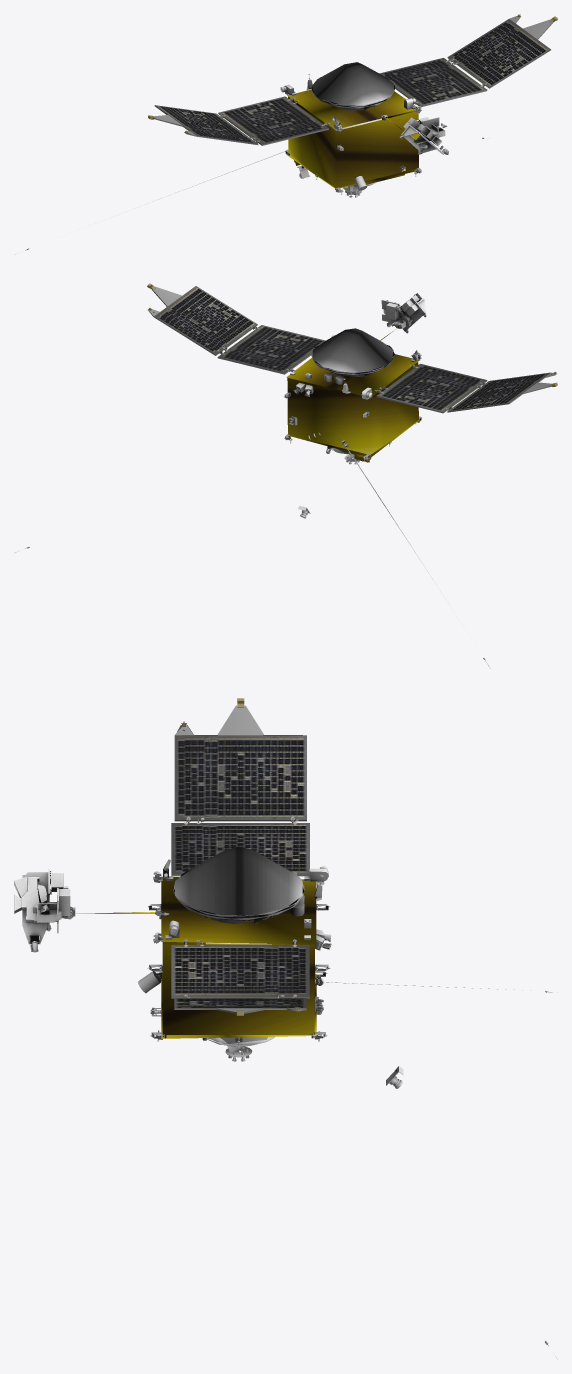
File: mars-atmosphere-and-volatile-evolution-maven-b.glb
The picture shows the model from 3 angles, top to bottom: view 1: azimuth 30°, elevation 25°; view 2: azimuth 150°, elevation 25°; view 3: azimuth 270°, elevation 25°; orthographic projection. The views are drawn at different scales.
Parts seen in each view (by area): view 1: shiny_panel, foil_gold, foil_silver, parts, dish_frame; view 2: shiny_panel, foil_gold, foil_silver, parts; view 3: shiny_panel, foil_gold, foil_silver, parts, dish_frame.
Part boxes in pixels (<box>): shiny_panel: <box>15,16,553,254</box>; foil_gold: <box>287,89,419,188</box>; foil_silver: <box>312,62,393,105</box>; parts: <box>148,14,557,197</box>; dish_frame: <box>311,77,395,110</box>; shiny_panel: <box>14,286,556,668</box>; foil_gold: <box>286,329,419,462</box>; foil_silver: <box>312,328,393,372</box>; parts: <box>147,283,557,518</box>; shiny_panel: <box>30,705,557,1359</box>; foil_gold: <box>76,877,316,1038</box>; foil_silver: <box>175,846,302,915</box>; parts: <box>14,698,403,1088</box>; dish_frame: <box>173,870,304,924</box>.
Bounding box in the file's own units: 13.13 × 5.42 × 8.22.
9 materials, 9 textured.
